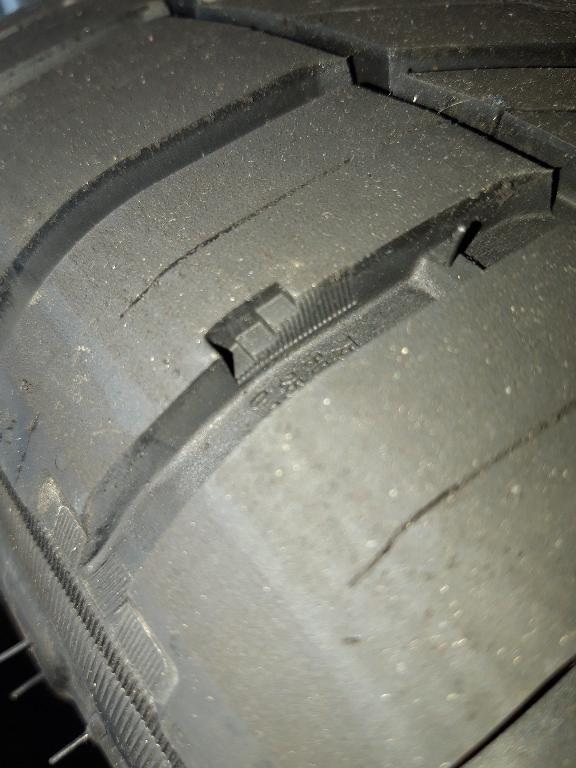temoin:75: (197, 266, 337, 392)
